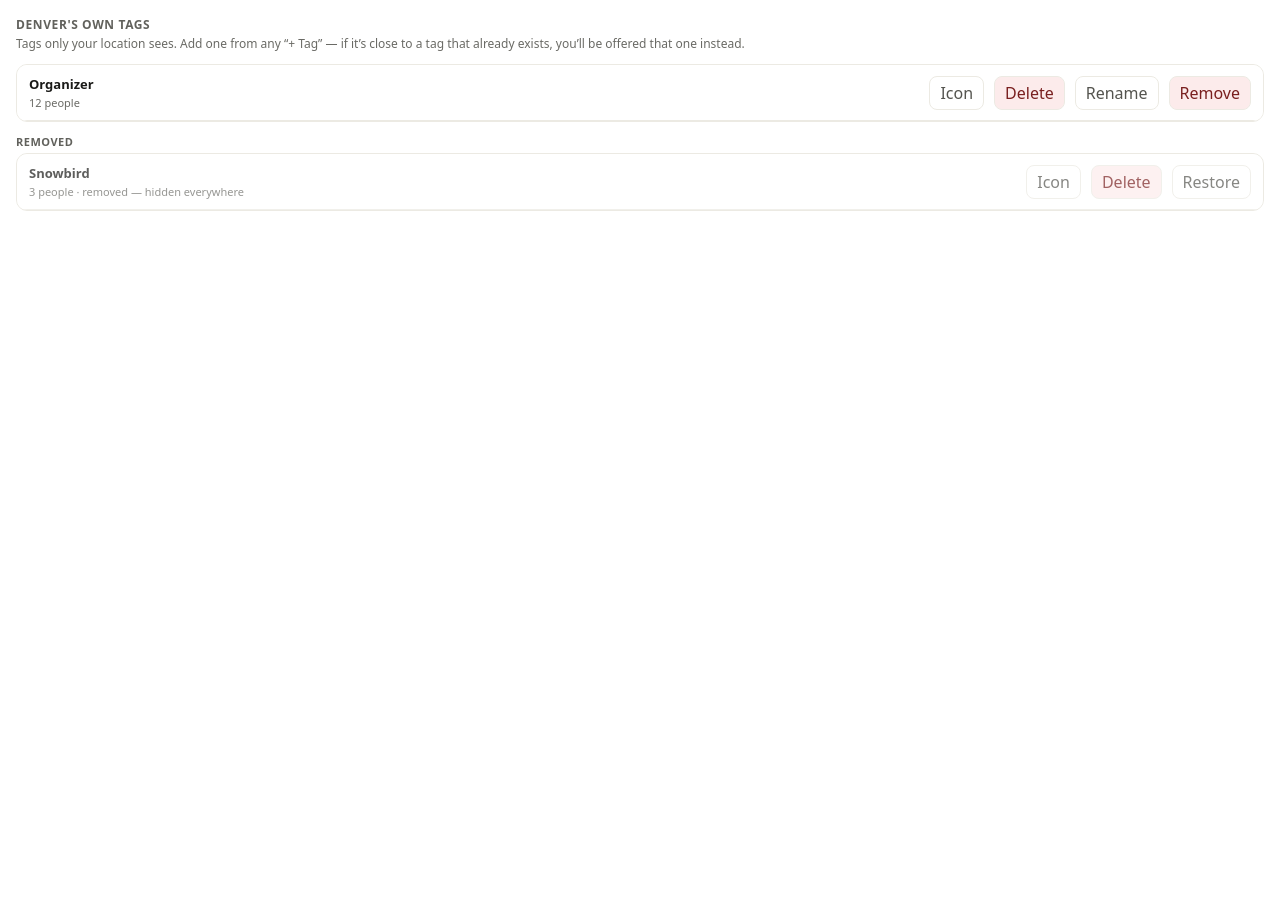
Scenario: E) Settings › Tags › Remove asks first, saying how many carry it, then switches it off
The image size is (1280, 900).
Click the button "Remove": (1210, 92) x1=1168 y1=76 x2=1251 y2=110
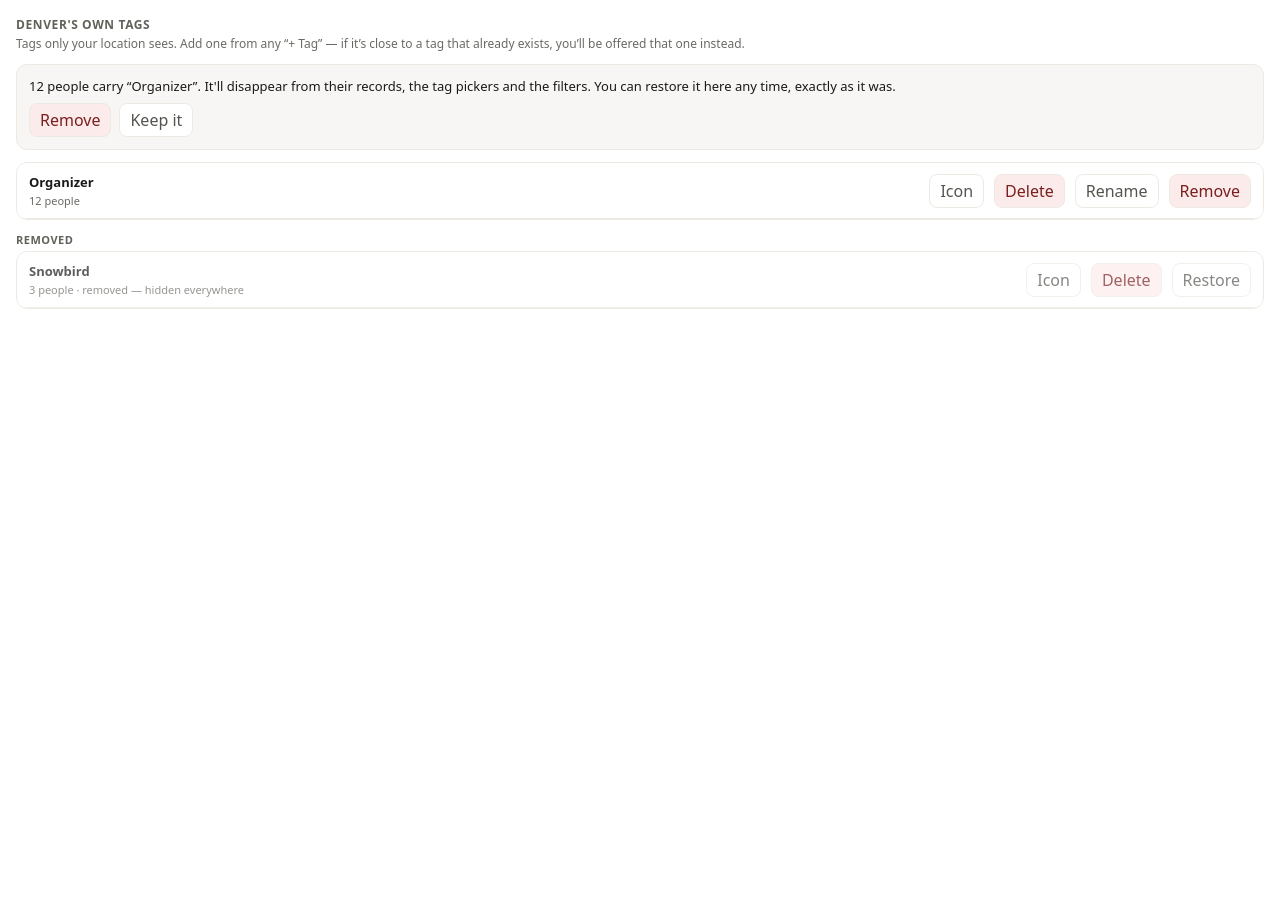
Result: the dialog shows "12 people carry “Organizer”" at x1=29 y1=77 x2=591 y2=95
Result: the dialog shows "restore it here any time" at x1=594 y1=77 x2=896 y2=95
Click the 1st button "Remove": (70, 120) x1=29 y1=103 x2=112 y2=137
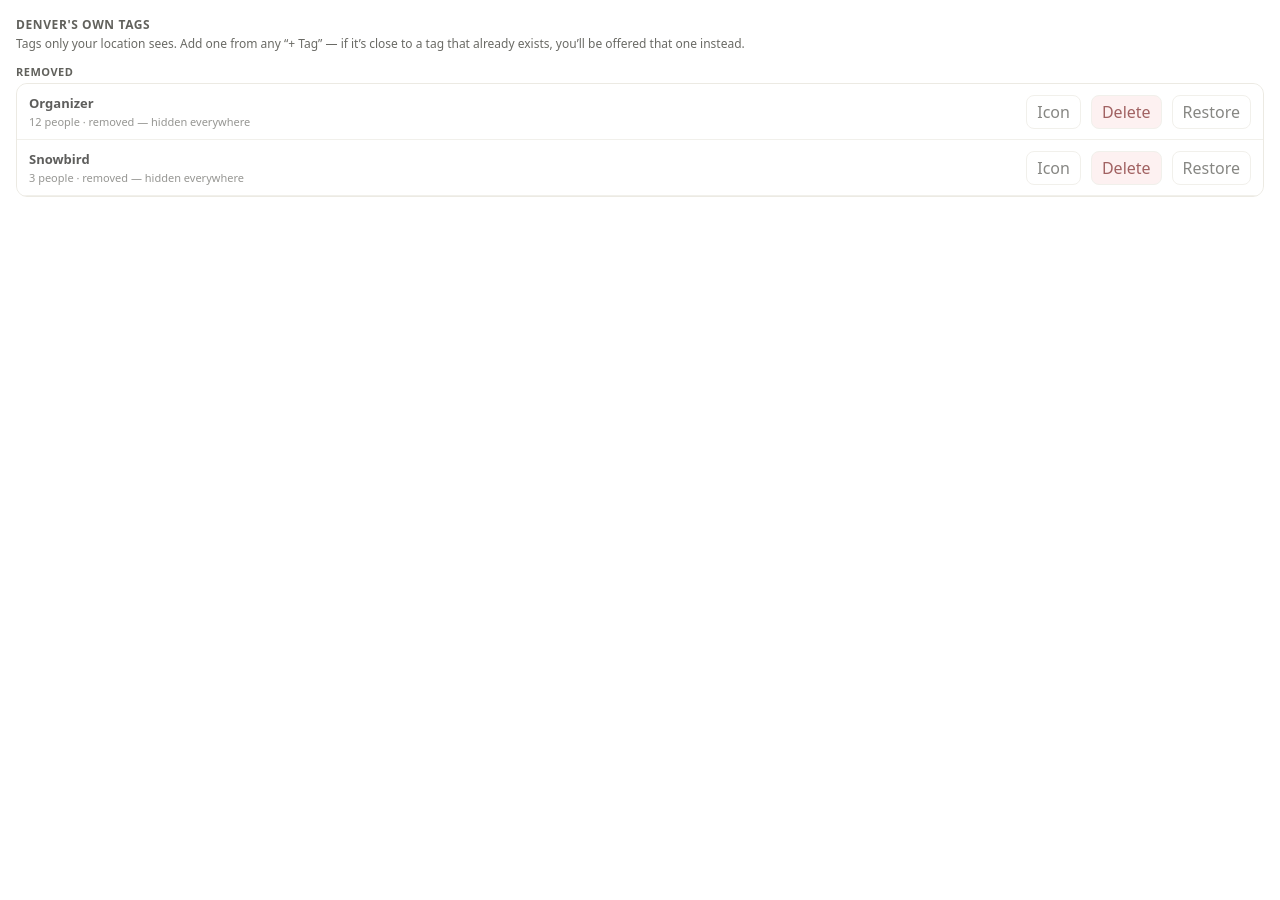
Result: the element that starts with "Organizer" shows "removed" at x1=80 y1=114 x2=250 y2=129
